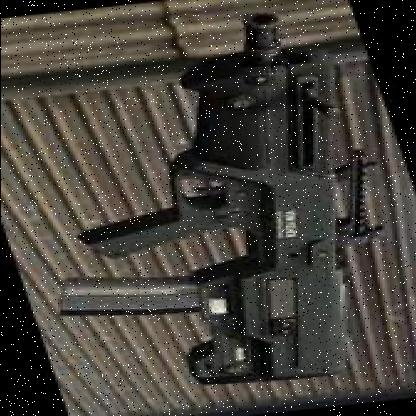rifle: (0, 10, 416, 406)
